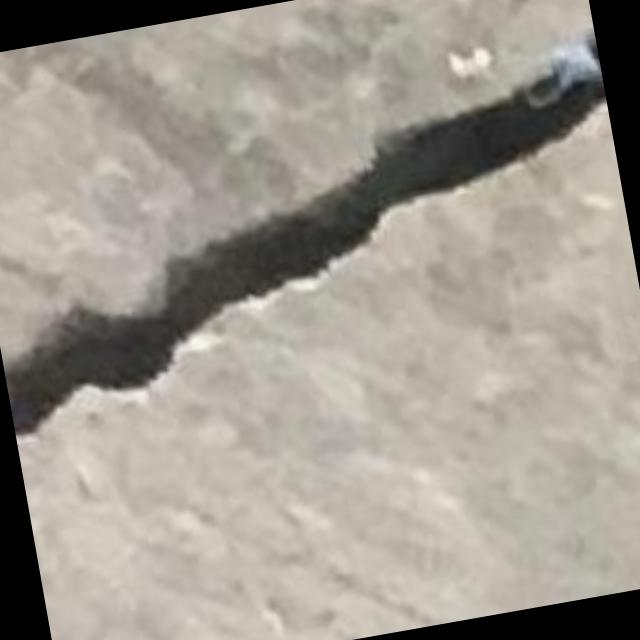crack: (3, 33, 606, 437)
